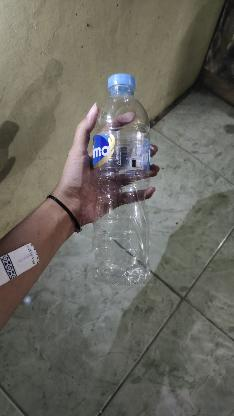Plastic Bottle: (87, 73, 152, 286), (0, 242, 38, 284)
